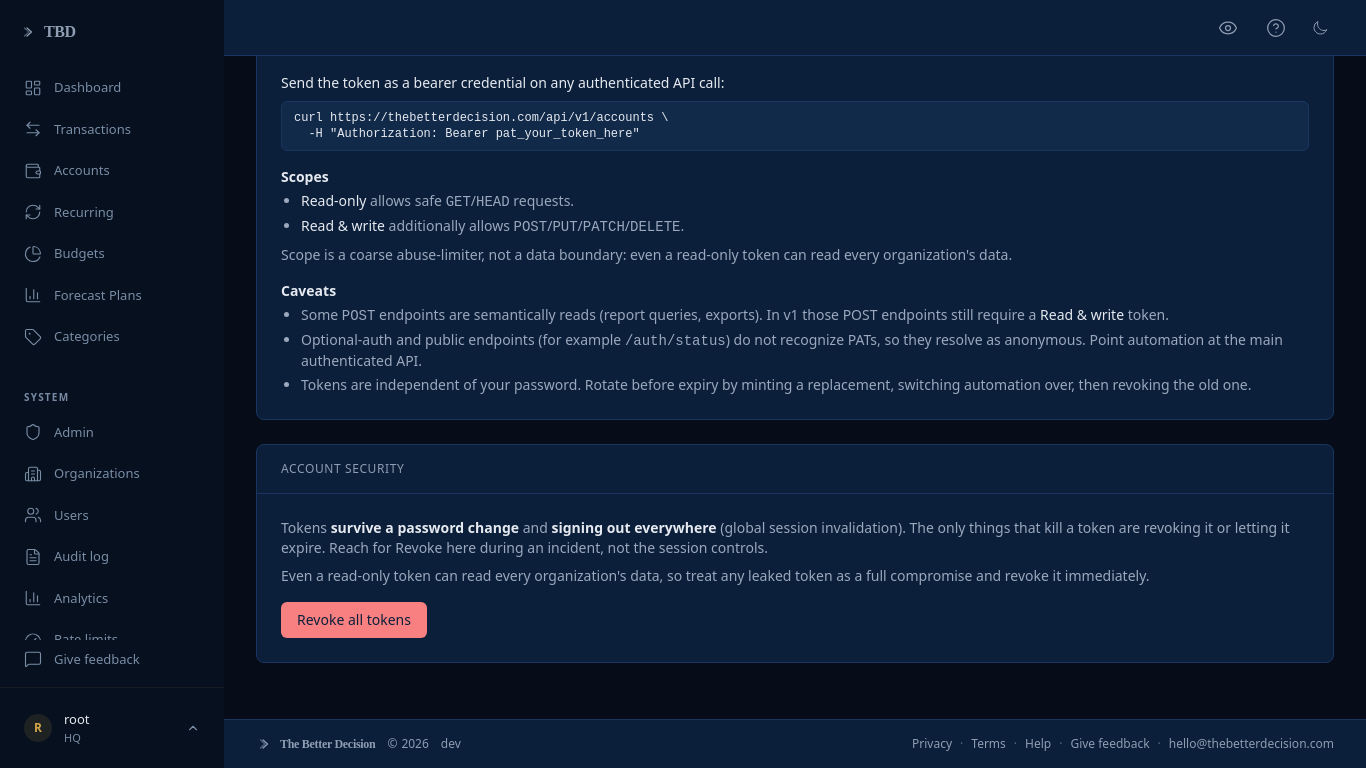
Test case: /system/api-tokens page › does not revoke all tokens when the confirm modal is cancelled
The width and height of the screenshot is (1366, 768).
(page scrolled)
Click the button with test id "revoke-all-button" at (354, 620), box [281,602,427,638]
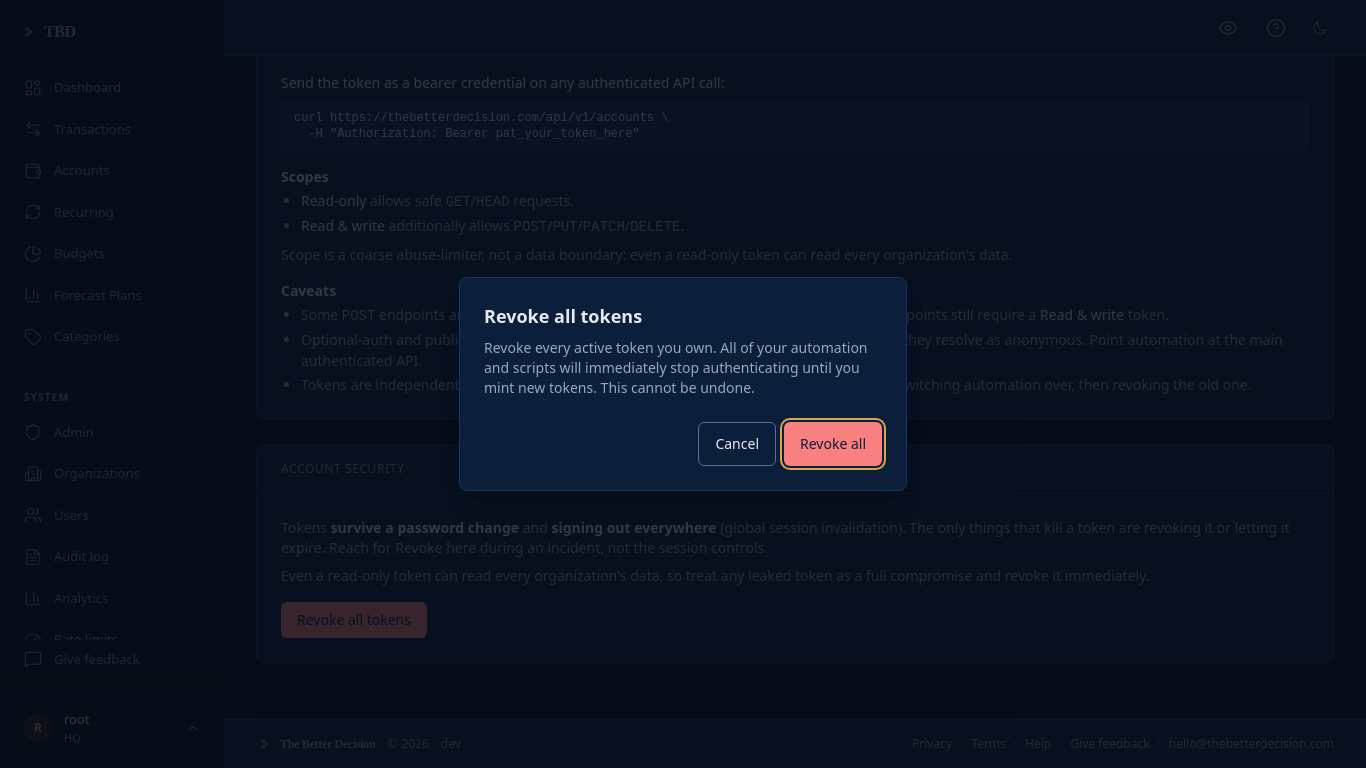
Click the button "Cancel" at (737, 444), box [698,422,776,466]
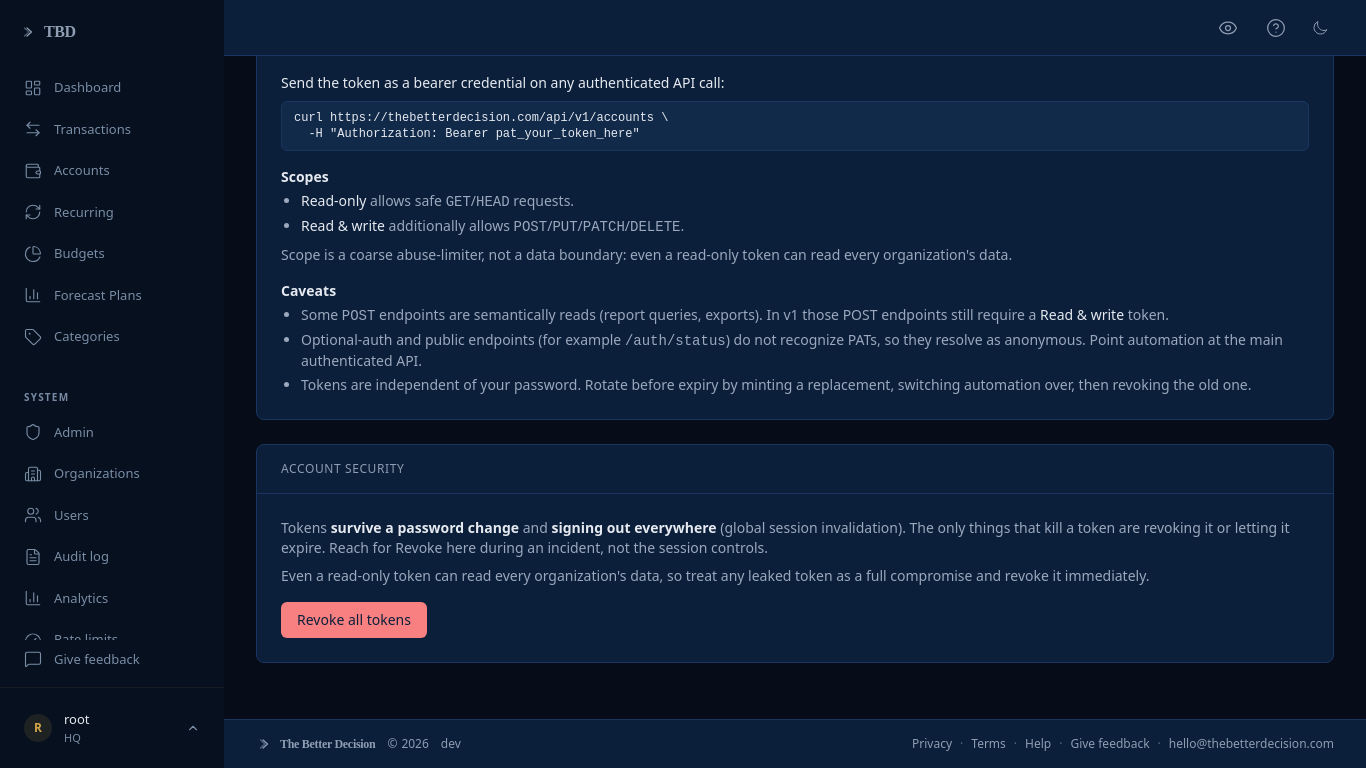
Result: the dialog is gone
